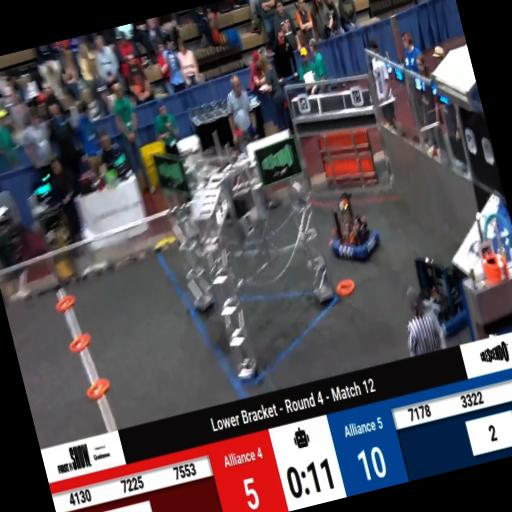robot: (401, 249, 477, 343), (320, 188, 384, 269)
